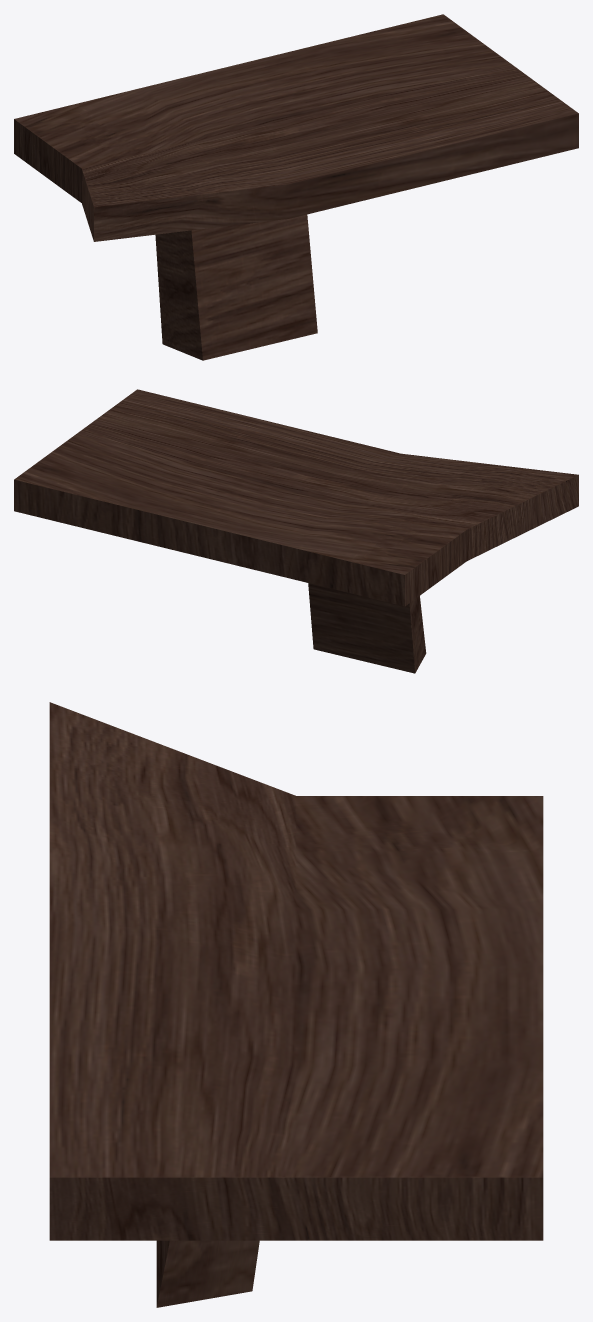
The model's file is NNJ0510020.fbx.
3 views of the same model, one above another, from view 1: azimuth 30°, elevation 25°; view 2: azimuth 150°, elevation 25°; view 3: azimuth 270°, elevation 25° (orthographic). The views are drawn at different scales.
Parts seen in each view (by area): view 1: smNNJ0510020; view 2: smNNJ0510020; view 3: smNNJ0510020.
Part boxes in pixels (x1,y1,x2,y2): smNNJ0510020: (14, 14, 578, 360); smNNJ0510020: (14, 389, 578, 673); smNNJ0510020: (49, 702, 543, 1307).
Size of the model in its own units: 110 by 45.42 by 53.36.
Materials: 1 (1 with a texture image).
